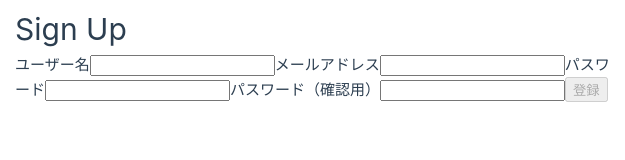
SignUpPage › インタラクション › 全フォーム入力済み、かつパスワードとパスワードの値が同じ値の場合、登録の disabled が解除される
Type "usako" into the field labelled "ユーザー名" at (182, 65), box [90,54,275,76]
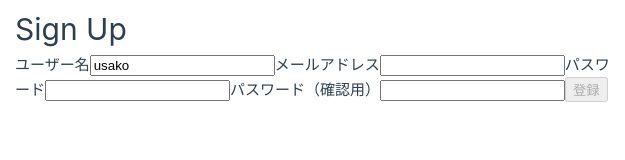
Type "usako@example.com" into the field labelled "メールアドレス" at (472, 65), box [380,54,565,76]
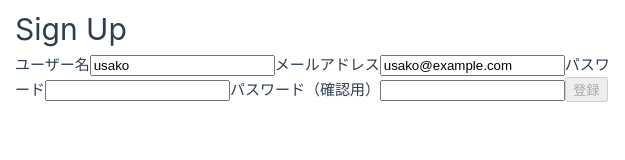
Type "hogehogehoge" into the password field labelled "パスワード" at (138, 90), box [45,80,230,100]
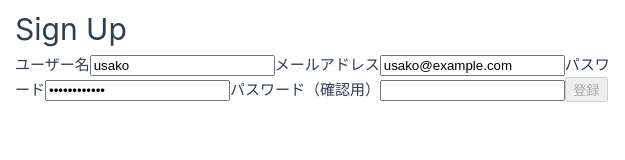
Type "hogehogehoge" into the password field labelled "パスワード（確認用）" at (472, 90), box [380,80,565,100]
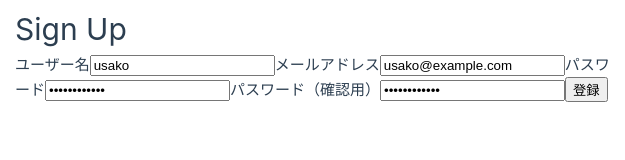
Now the button "登録" is enabled, box [565,76,608,102]
